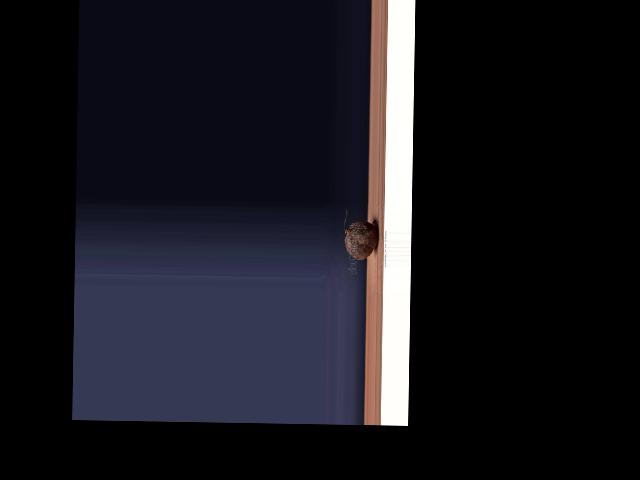beet: (343, 208, 378, 259)
